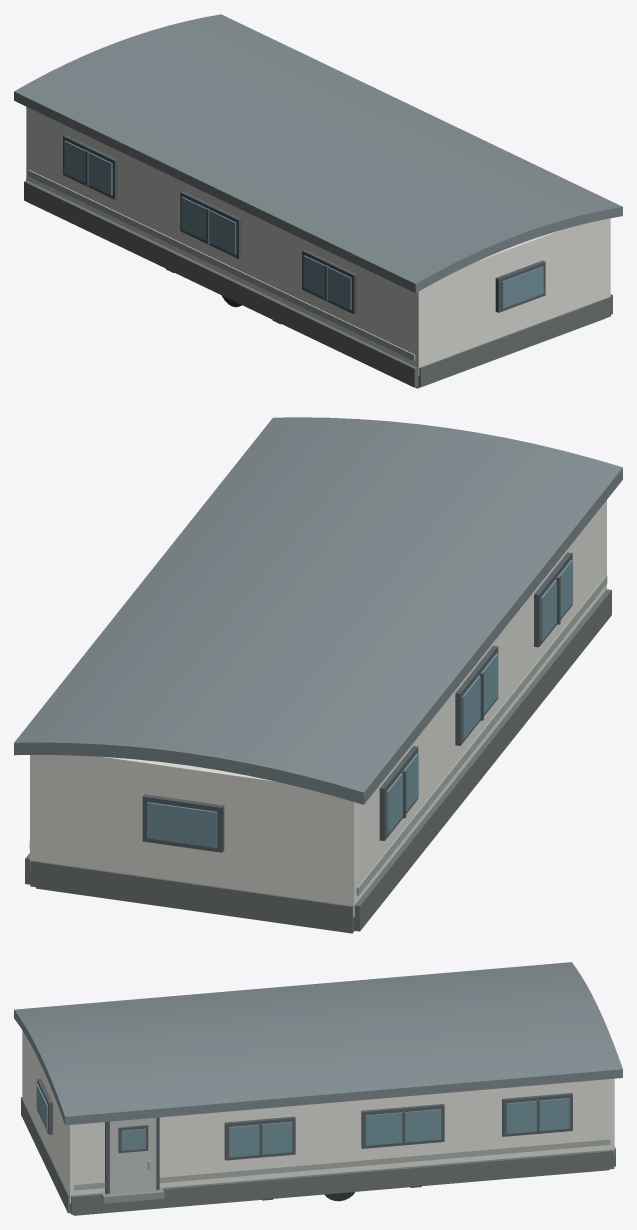
3 views of the same model, one above another, from view 1: azimuth 30°, elevation 25°; view 2: azimuth 150°, elevation 25°; view 3: azimuth 270°, elevation 25° (orthographic). The views are drawn at different scales.
Parts seen in each view (by area): view 1: shallow_crowned_roof, main_caravan_body, lower_side_skirt_negative, lower_end_skirt_positive, side_stripe_negative, negative_side_window_2_glass, negative_side_window_1_glass, negative_side_window_3_glass, front_end_window_glass, negative_side_window_2_frame, negative_side_window_3_frame, negative_side_window_1_frame (+1 smaller); view 2: shallow_crowned_roof, main_caravan_body, lower_end_skirt_negative, lower_side_skirt_negative, side_stripe_negative, rear_end_window_glass, negative_side_window_2_glass, rear_end_window_frame, negative_side_window_3_glass, negative_side_window_1_glass, negative_side_window_2_frame, negative_side_window_1_frame (+1 smaller); view 3: shallow_crowned_roof, main_caravan_body, lower_side_skirt_positive, side_stripe_positive, entrance_door_panel, positive_side_window_2_glass, positive_side_window_3_glass, positive_side_window_1_glass, lower_end_skirt_positive, positive_side_window_2_frame, positive_side_window_3_frame, positive_side_window_1_frame (+4 smaller).
Part boxes in pixels (left/top/right/bottom): shallow_crowned_roof: left=14, top=14, right=622, bottom=293; main_caravan_body: left=26, top=107, right=610, bottom=376; lower_side_skirt_negative: left=24, top=180, right=418, bottom=387; lower_end_skirt_positive: left=418, top=297, right=610, bottom=387; side_stripe_negative: left=28, top=170, right=415, bottom=360; negative_side_window_2_glass: left=181, top=197, right=236, bottom=254; negative_side_window_1_glass: left=64, top=140, right=112, bottom=195; negative_side_window_3_glass: left=303, top=255, right=351, bottom=310; front_end_window_glass: left=501, top=266, right=543, bottom=308; negative_side_window_2_frame: left=180, top=191, right=241, bottom=258; negative_side_window_3_frame: left=302, top=249, right=357, bottom=314; negative_side_window_1_frame: left=63, top=135, right=117, bottom=199; shallow_crowned_roof: left=14, top=417, right=622, bottom=804; main_caravan_body: left=30, top=500, right=606, bottom=917; lower_end_skirt_negative: left=30, top=860, right=353, bottom=932; lower_side_skirt_negative: left=353, top=589, right=611, bottom=931; side_stripe_negative: left=356, top=575, right=607, bottom=895; rear_end_window_glass: left=147, top=802, right=217, bottom=847; negative_side_window_2_glass: left=462, top=653, right=498, bottom=739; rear_end_window_frame: left=142, top=794, right=224, bottom=852; negative_side_window_3_glass: left=540, top=560, right=572, bottom=640; negative_side_window_1_glass: left=386, top=753, right=418, bottom=834; negative_side_window_2_frame: left=455, top=646, right=498, bottom=745; negative_side_window_1_frame: left=379, top=746, right=418, bottom=840; shallow_crowned_roof: left=14, top=962, right=622, bottom=1125; main_caravan_body: left=22, top=1030, right=614, bottom=1203; lower_side_skirt_positive: left=70, top=1149, right=614, bottom=1214; side_stripe_positive: left=74, top=1139, right=610, bottom=1190; entrance_door_panel: left=109, top=1117, right=156, bottom=1194; positive_side_window_2_glass: left=365, top=1109, right=441, bottom=1145; positive_side_window_3_glass: left=229, top=1121, right=292, bottom=1157; positive_side_window_1_glass: left=506, top=1098, right=569, bottom=1133; lower_end_skirt_positive: left=21, top=1097, right=70, bottom=1213; positive_side_window_2_frame: left=361, top=1104, right=444, bottom=1148; positive_side_window_3_frame: left=224, top=1116, right=295, bottom=1160; positive_side_window_1_frame: left=502, top=1093, right=572, bottom=1136.
Bounding box in the file's own units: 6.54 × 2.5 × 10.87.
